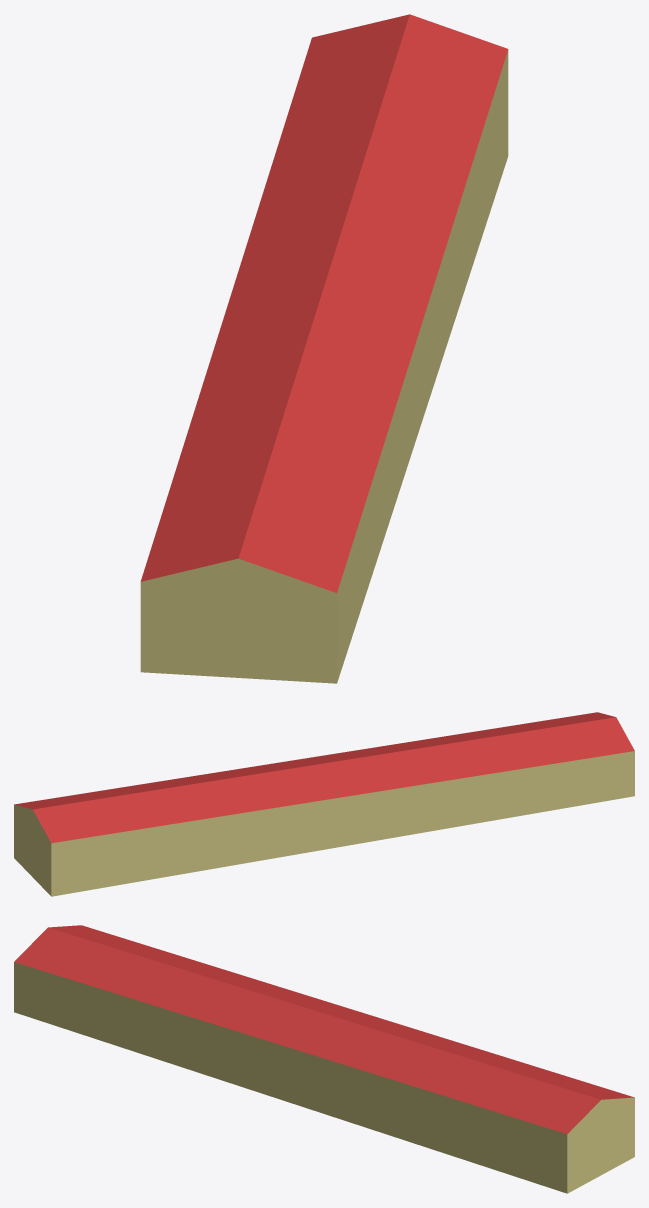
The picture shows the model from 3 angles, top to bottom: view 1: azimuth 30°, elevation 25°; view 2: azimuth 150°, elevation 25°; view 3: azimuth 270°, elevation 25°; orthographic projection. The views are drawn at different scales.
Bounding box in the file's own units: 48.45 × 58.25 × 7.82.
